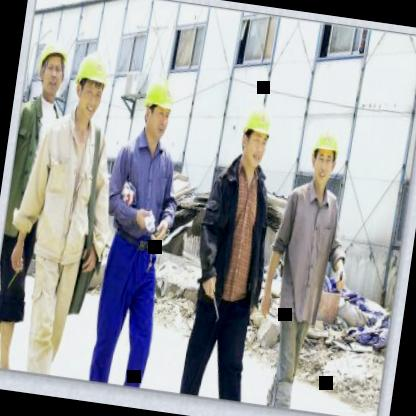helmet: (67, 42, 117, 121), (232, 96, 278, 174), (136, 70, 180, 148), (31, 33, 73, 105), (302, 123, 344, 189)
